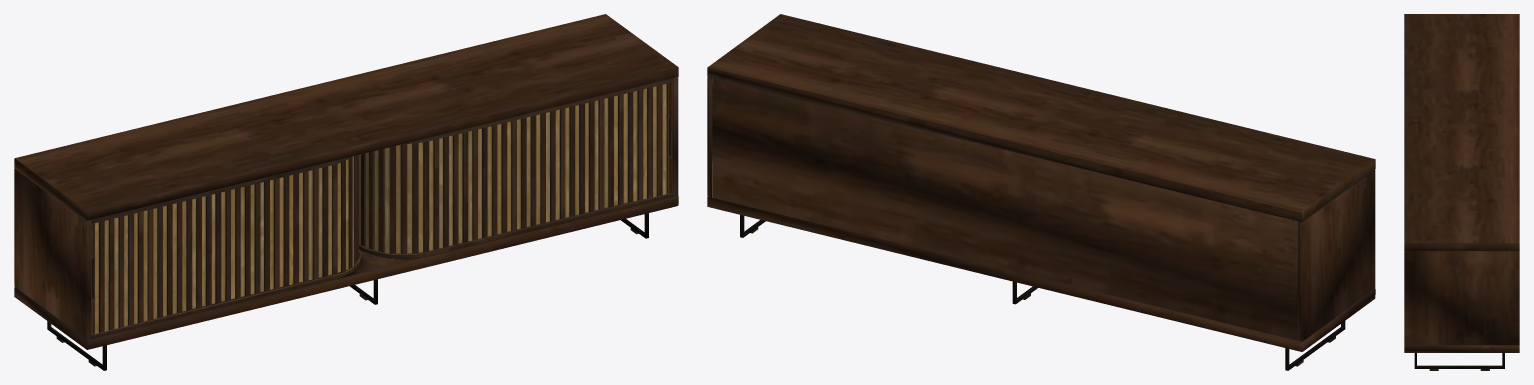
Rendered from tv_console.glb.
3 views of the same model, side by side, from view 1: azimuth 30°, elevation 25°; view 2: azimuth 150°, elevation 25°; view 3: azimuth 270°, elevation 25° (orthographic). The views are drawn at different scales.
Parts seen in each view (by area): view 1: modern_wooden_cabinet_body, modern_wooden_cabinet_door_l; view 2: modern_wooden_cabinet_body; view 3: modern_wooden_cabinet_body.
Boxes of the visible parts, x1=… form: modern_wooden_cabinet_body: x1=14, y1=14, x2=678, y2=370; modern_wooden_cabinet_door_l: x1=91, y1=82, x2=672, y2=334; modern_wooden_cabinet_body: x1=707, y1=14, x2=1375, y2=370; modern_wooden_cabinet_body: x1=1404, y1=14, x2=1519, y2=370.
Size of the model in its own units: 2.44 by 0.6801 by 0.5201.
1 material, 1 textured.
